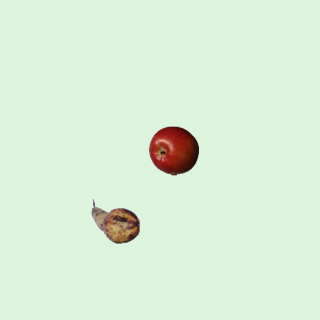Apple Braeburn: (148, 125, 198, 175)
Pear Abate: (90, 196, 140, 246)
